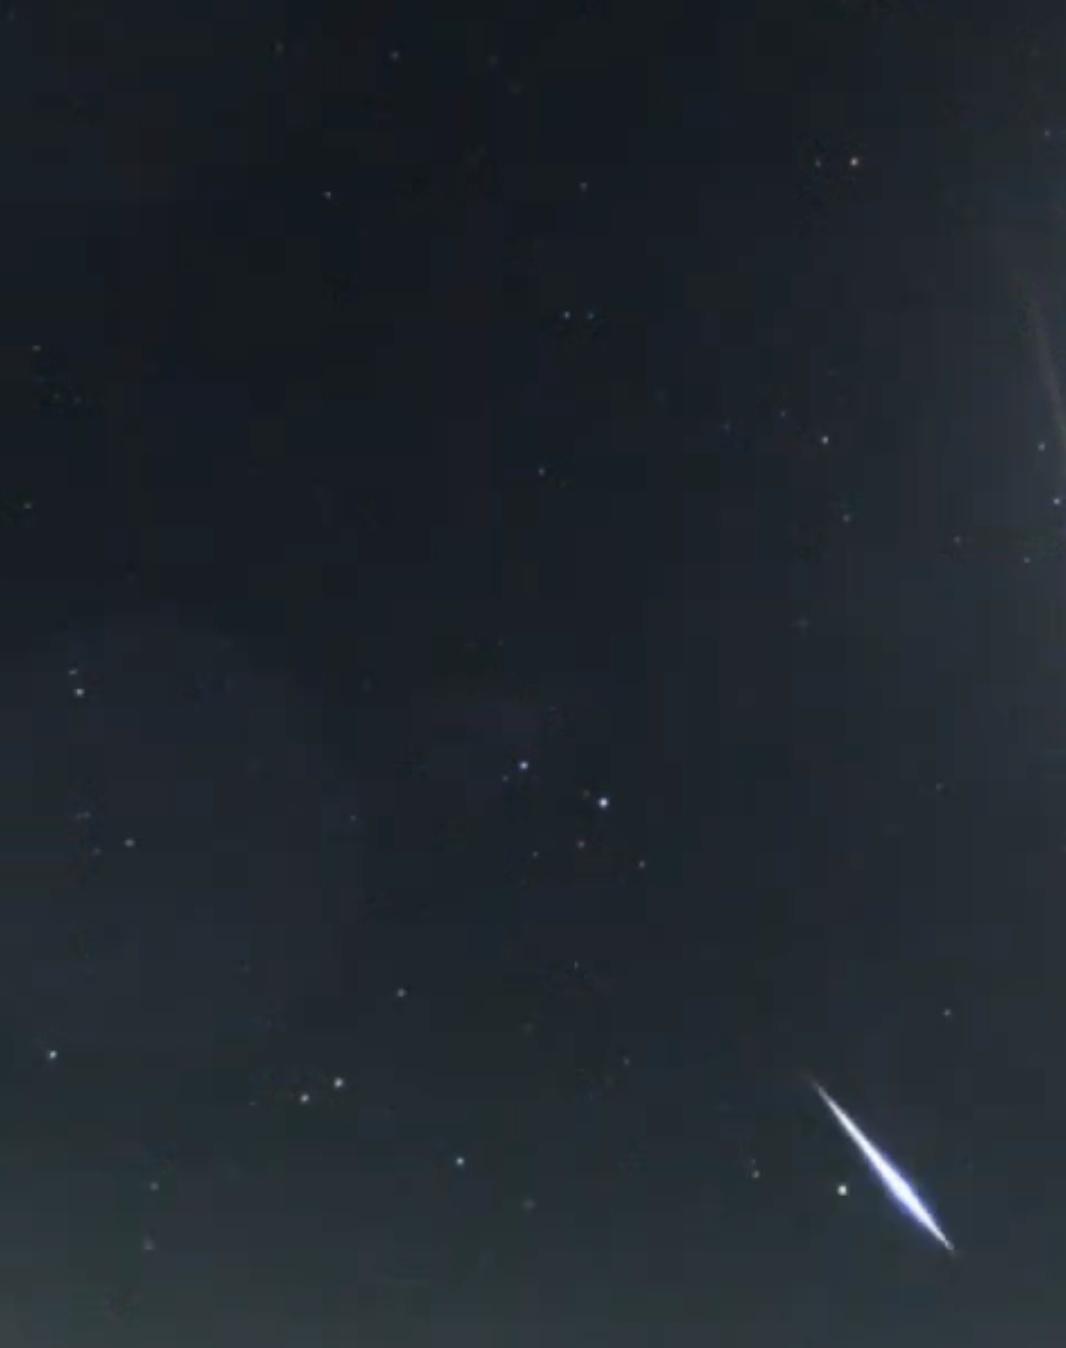meteorite: (784, 1053, 995, 1281)
